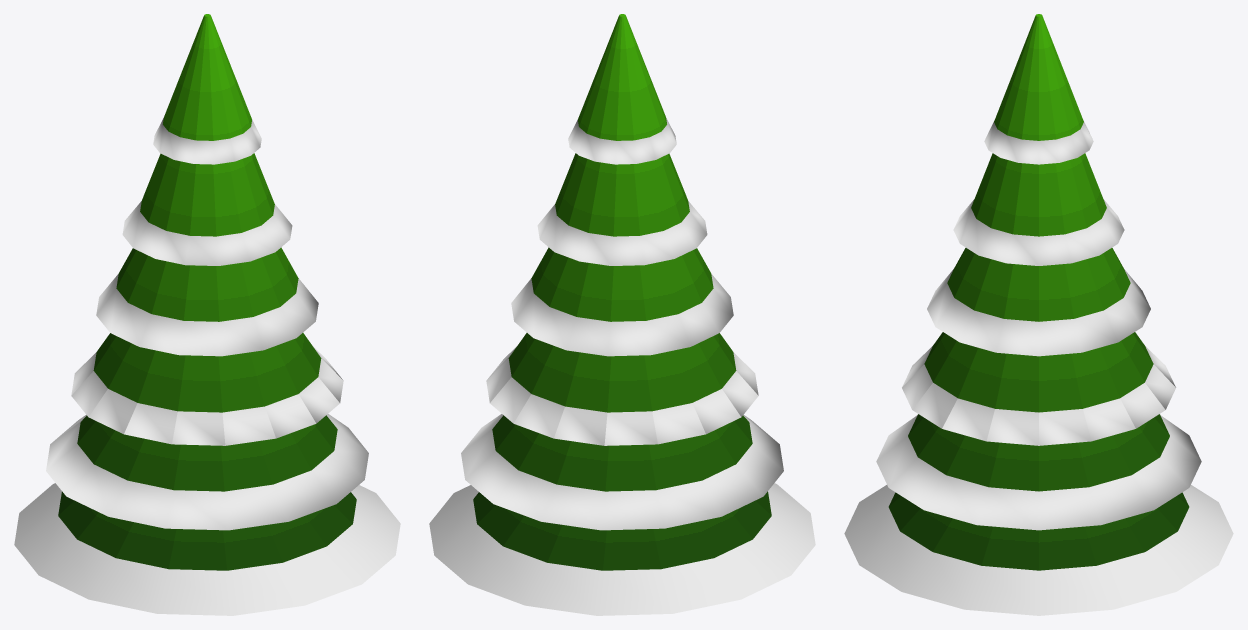
Rendered from Prefab_Xmas_Tree_I.glb.
3 views of the same model, side by side, from view 1: azimuth 30°, elevation 25°; view 2: azimuth 150°, elevation 25°; view 3: azimuth 270°, elevation 25° (orthographic).
Visible parts, largest first — view 1: Tree_ITrim, Tree_I; view 2: Tree_ITrim, Tree_I; view 3: Tree_ITrim, Tree_I.
Part boxes in pixels (bbox=[...]): Tree_ITrim: bbox=[14, 117, 400, 615]; Tree_I: bbox=[58, 14, 356, 570]; Tree_ITrim: bbox=[429, 117, 815, 615]; Tree_I: bbox=[473, 14, 771, 570]; Tree_ITrim: bbox=[844, 122, 1233, 615]; Tree_I: bbox=[888, 14, 1189, 570].
Bounding box in the file's own units: 1.41 × 2.07 × 1.41.
2 materials, 1 textured.
